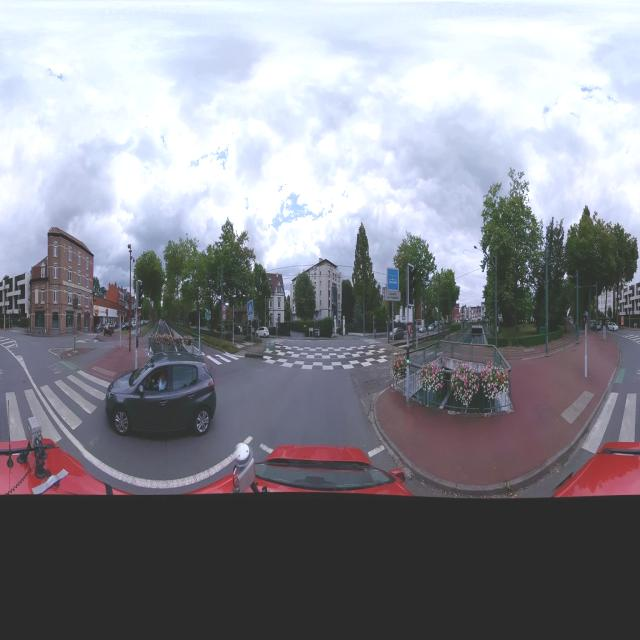car: (105, 356, 216, 441), (389, 326, 404, 341), (256, 324, 270, 340), (103, 321, 113, 334)
